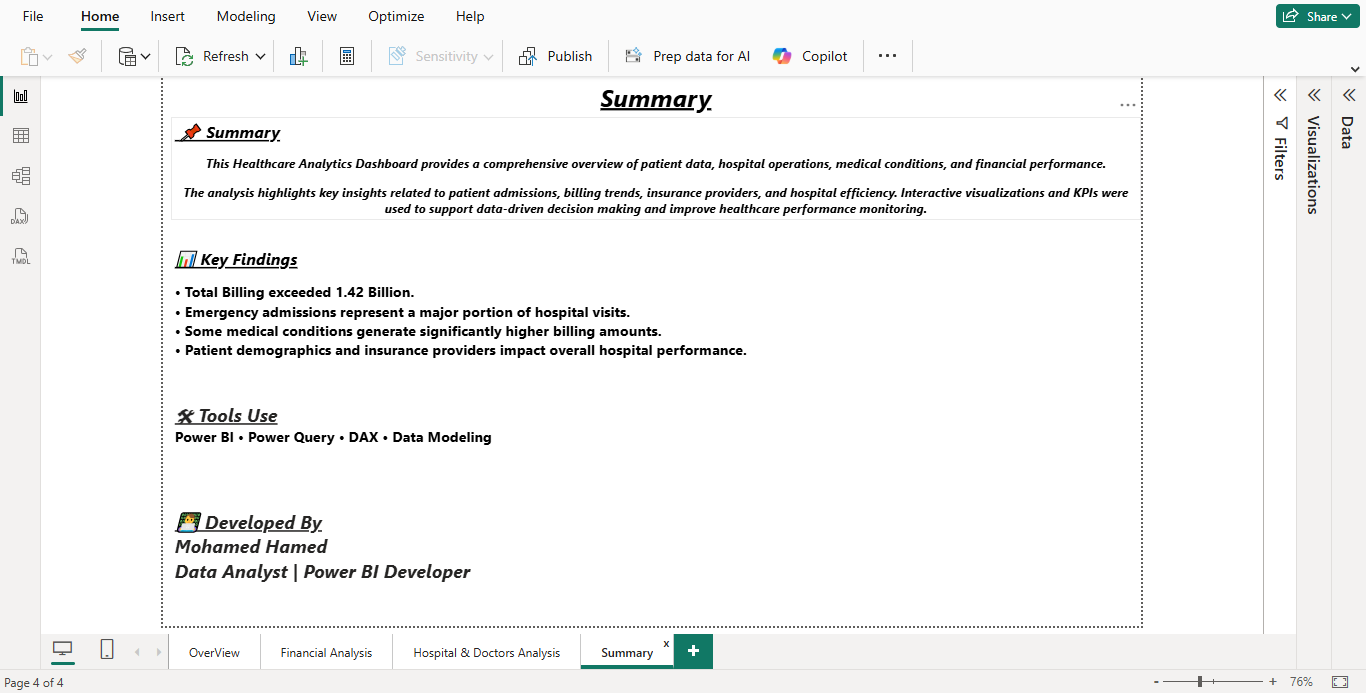

The page's visual inventory and layout, read from the dashboard file:
{"tool":"powerbi","page":{"name":"Summary","canvas":[1280,720],"ordinal":3},"visuals":[{"type":"textbox","box":[10.1,0,1269.6,81.2],"z":0},{"type":"textbox","box":[10.1,53.6,1269.6,134.8],"z":1000},{"type":"textbox","box":[10.1,220.3,1269.6,162.3],"z":2000},{"type":"textbox","box":[10.1,421.7,1269.6,76.8],"z":3000},{"type":"textbox","box":[10,561,1270,150],"z":4000}]}

Visuals, with their boxes on the page's 1280x720 design canvas (x1, y1, x2, y2). These are canvas units, not pixel positions in the 1366x693 screenshot, which may show the page scaled, cropped or inside an application window:
textbox: locate(10, 0, 1280, 81)
textbox: locate(10, 54, 1280, 188)
textbox: locate(10, 220, 1280, 383)
textbox: locate(10, 422, 1280, 498)
textbox: locate(10, 561, 1280, 711)
